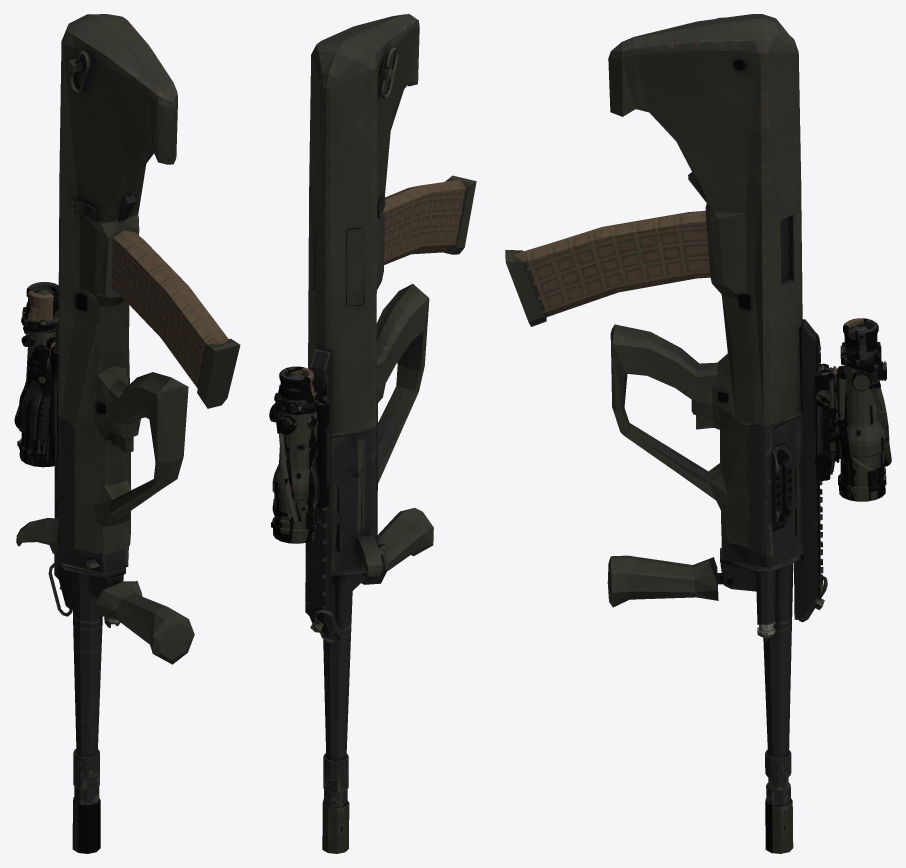
Rendered from w_rif_aug.obj.
The picture shows the model from 3 angles, left to right: view 1: azimuth 30°, elevation 25°; view 2: azimuth 150°, elevation 25°; view 3: azimuth 270°, elevation 25°; orthographic projection. The views are drawn at different scales.
Bounding box in the file's own units: 0.0379 × 0.3089 × 0.1305.
Materials: 1 (1 with a texture image).
